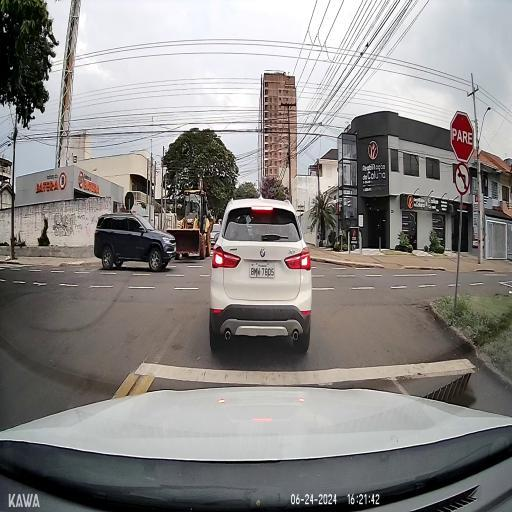R-1: (450, 111, 474, 162)
R-24a: (455, 162, 470, 195)
